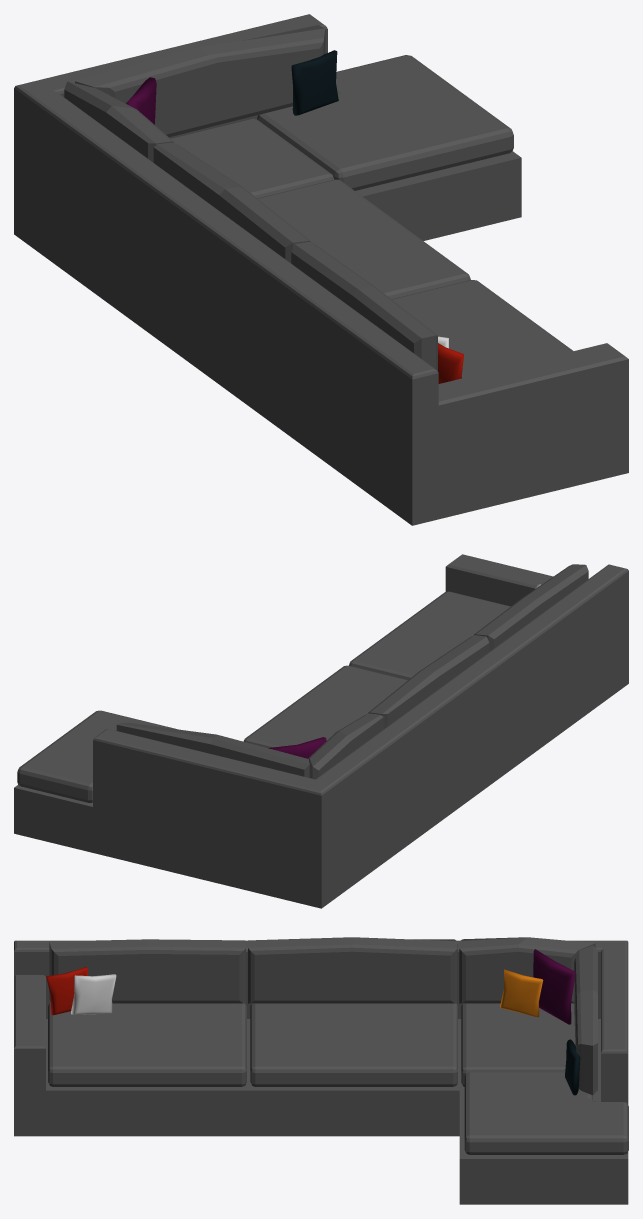
The model's file is coutch.fbx.
The picture shows the model from 3 angles, top to bottom: view 1: azimuth 30°, elevation 25°; view 2: azimuth 150°, elevation 25°; view 3: azimuth 270°, elevation 25°; orthographic projection. The views are drawn at different scales.
Visible parts, largest first — view 1: Cube.005, sitting cushion, back cushion, Cube.004, Cube, Cube.002; view 2: Cube.005, sitting cushion, back cushion, Cube.002; view 3: sitting cushion, Cube.005, back cushion, Cube.002, Cube.001, Cube.003, Cube, Cube.004.
Part boxes in pixels (x1,y1,x2,y2): Cube.005: (14,14,628,525); sitting cushion: (170,55,573,378); back cushion: (64,25,437,371); Cube.004: (291,50,338,115); Cube: (438,343,463,383); Cube.002: (126,77,156,124); Cube.005: (14,554,628,908); sitting cushion: (17,591,510,802); back cushion: (116,564,588,779); Cube.002: (268,737,326,758); sitting cushion: (48,1002,628,1154); Cube.005: (14,940,628,1204); back cushion: (49,937,597,1095); Cube.002: (533,949,575,1024); Cube.001: (71,974,116,1014); Cube.003: (500,969,543,1017); Cube: (46,967,87,1015); Cube.004: (565,1039,580,1095).
Bounding box in the file's own units: 428 × 173 × 742.
